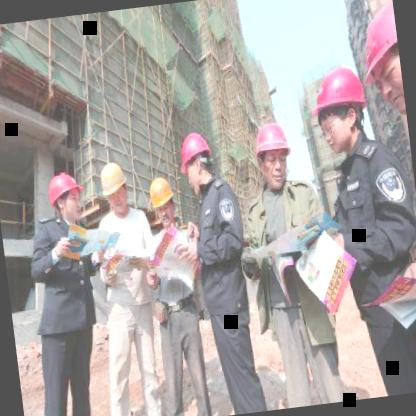helmet: (304, 62, 374, 164), (360, 2, 406, 121), (247, 113, 298, 193), (174, 127, 218, 196), (42, 166, 88, 228), (96, 157, 133, 216), (144, 172, 179, 230)
